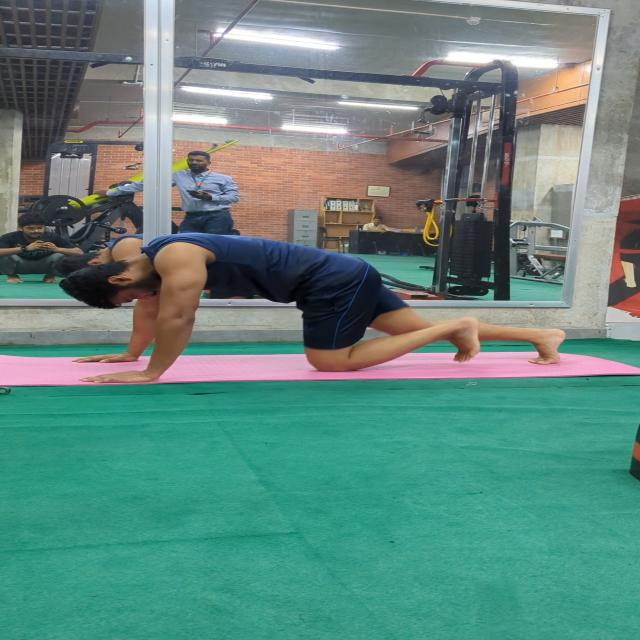Normal_MountainClimbers: (43, 228, 594, 393)
